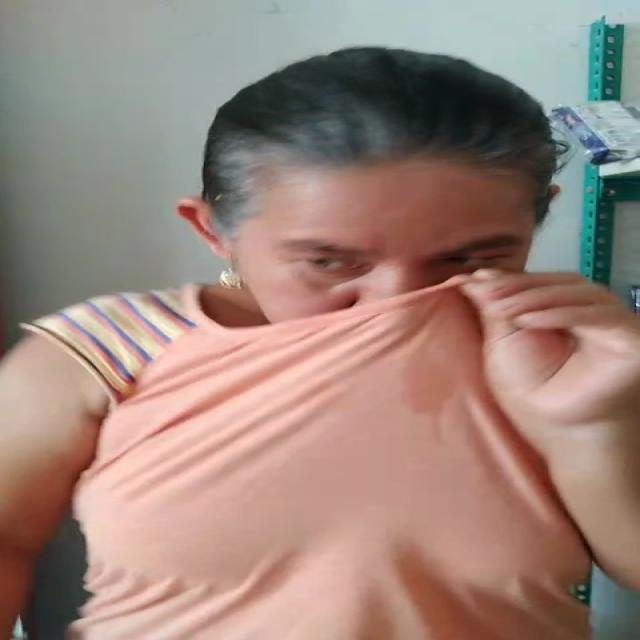8_ropa_rostro: (242, 279, 608, 453)
